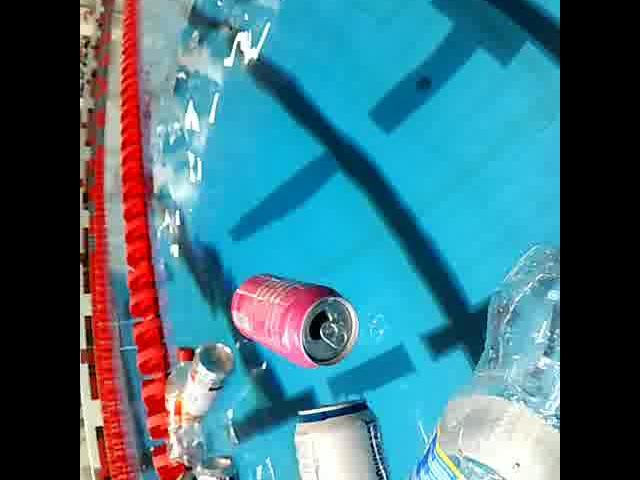Bottle: (393, 238, 560, 480), (160, 340, 213, 468)
Can: (224, 268, 366, 376), (282, 388, 404, 480), (178, 339, 235, 423), (196, 451, 254, 480), (165, 469, 205, 480)
